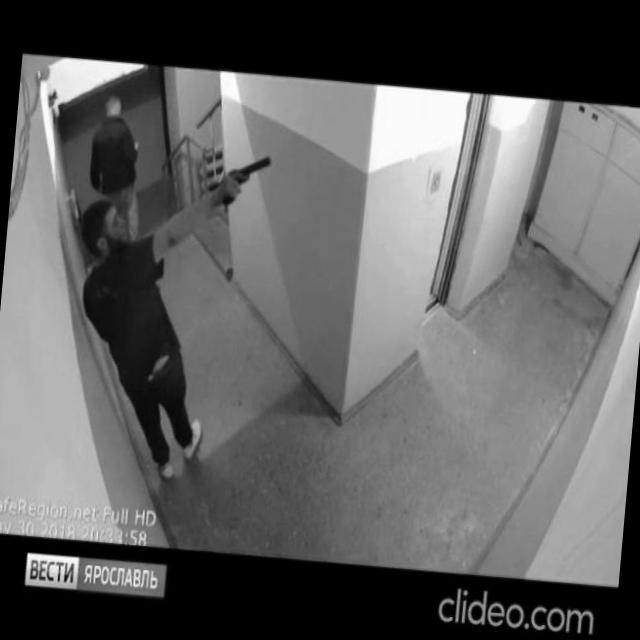gun: (219, 148, 274, 210)
person: (80, 89, 156, 258)
person with a gun: (55, 136, 276, 492)
